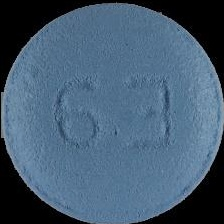50436-5539: (0, 0, 224, 224)
